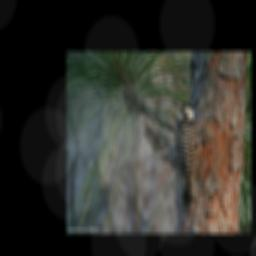Woodpecker: (171, 101, 209, 221)
